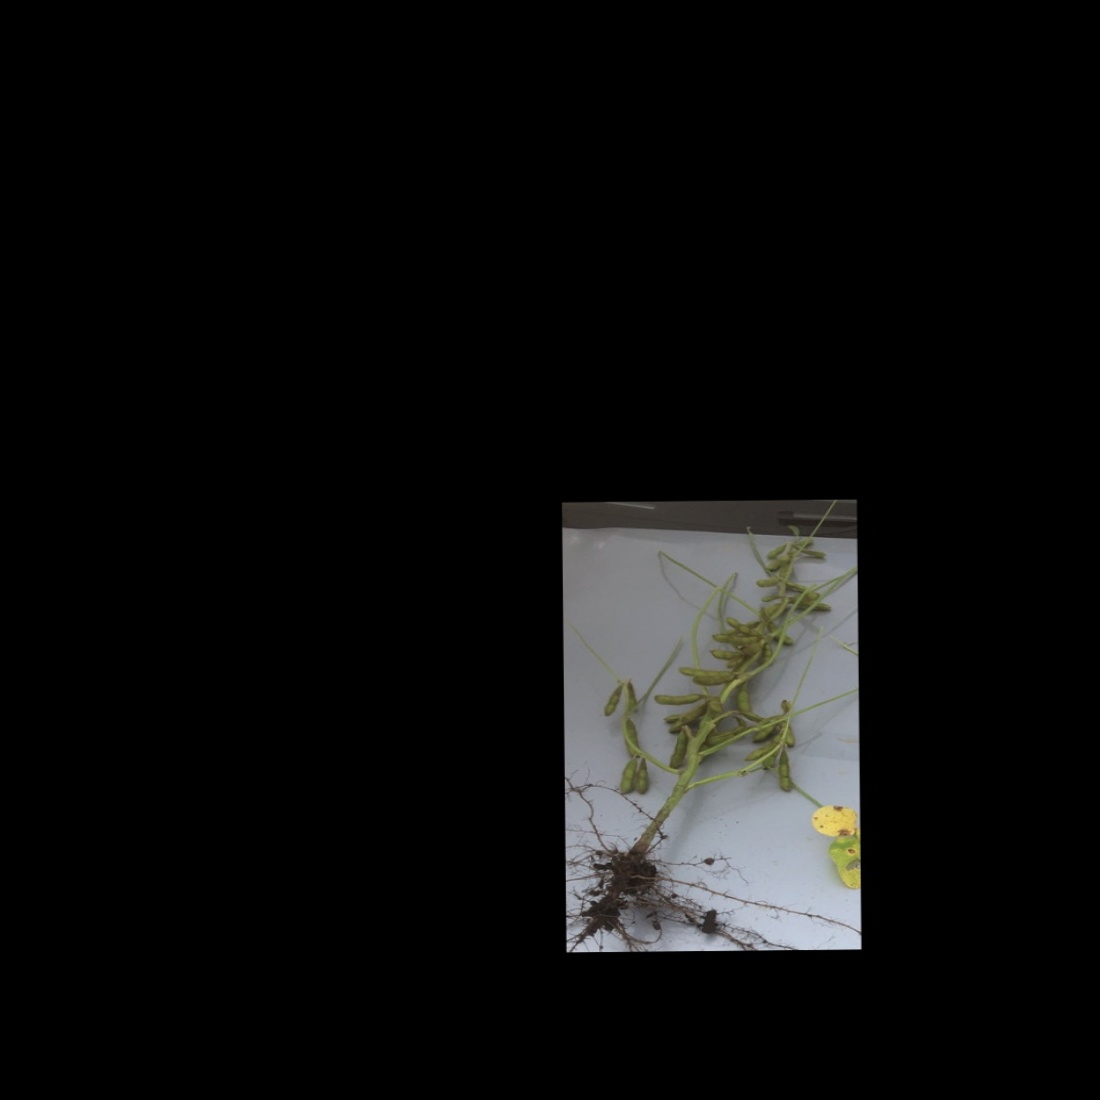pod: (664, 729, 689, 770), (652, 689, 704, 708), (595, 684, 622, 721), (614, 755, 638, 795), (776, 751, 794, 793), (635, 757, 651, 796), (738, 678, 754, 712), (753, 574, 782, 589), (763, 541, 786, 559), (708, 649, 744, 660), (760, 591, 785, 601)
soy: (588, 520, 842, 931)
